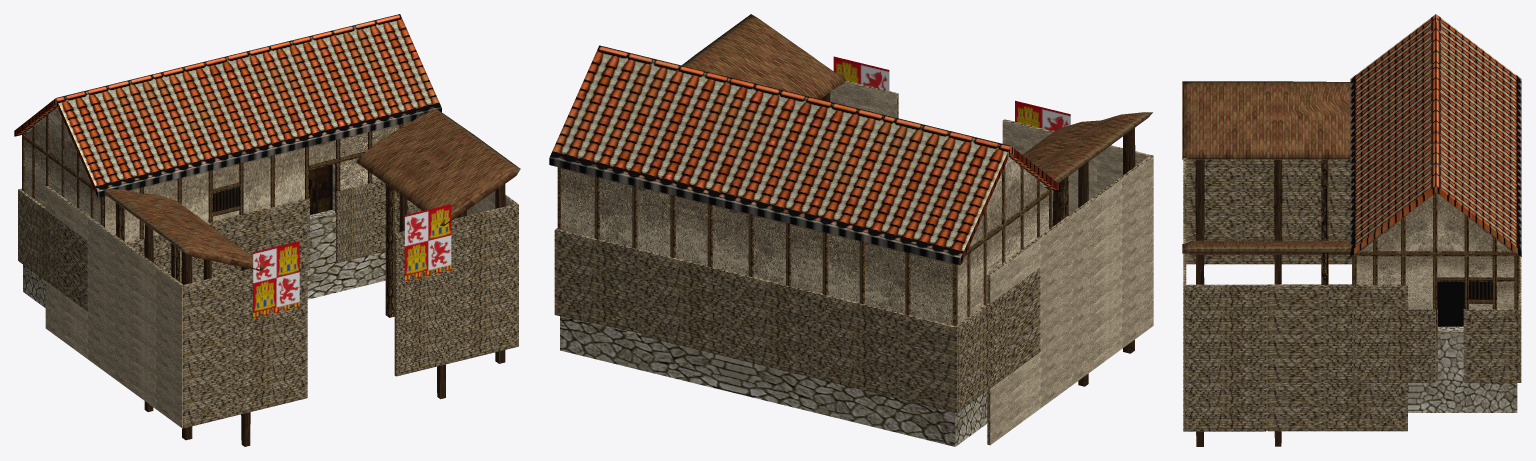
The model's file is barracks.dae.
3 views of the same model, side by side, from view 1: azimuth 30°, elevation 25°; view 2: azimuth 150°, elevation 25°; view 3: azimuth 270°, elevation 25° (orthographic). The views are drawn at different scales.
Parts seen in each view (by area): view 1: barracks; view 2: barracks; view 3: barracks.
Part boxes in pixels (bbox=[...]): barracks: bbox=[14, 14, 520, 446]; barracks: bbox=[549, 14, 1153, 446]; barracks: bbox=[1182, 14, 1521, 446].
Size of the model in its own units: 23.09 by 19.24 by 18.02.
